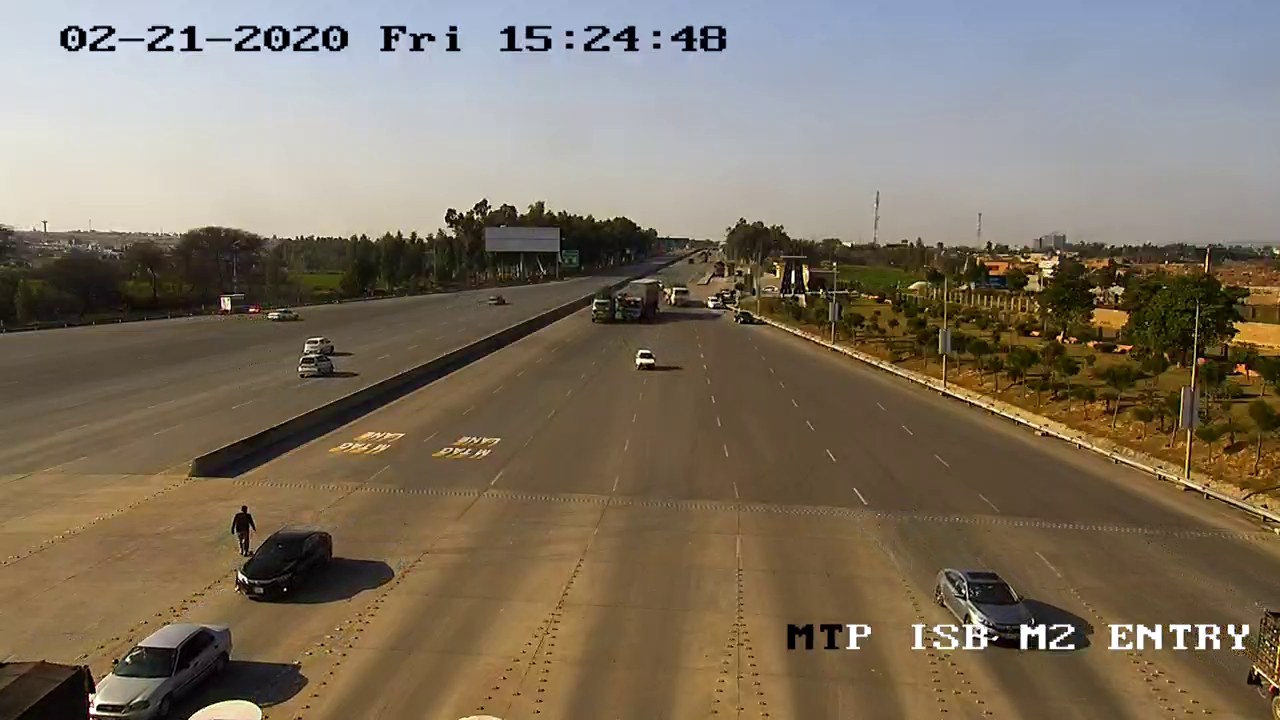f1: (83, 605, 241, 720), (232, 523, 340, 604)
